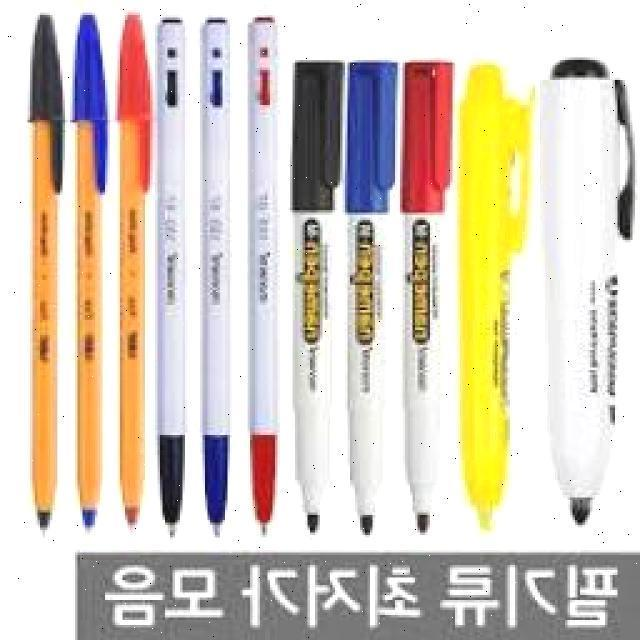pen: (152, 13, 190, 541)
